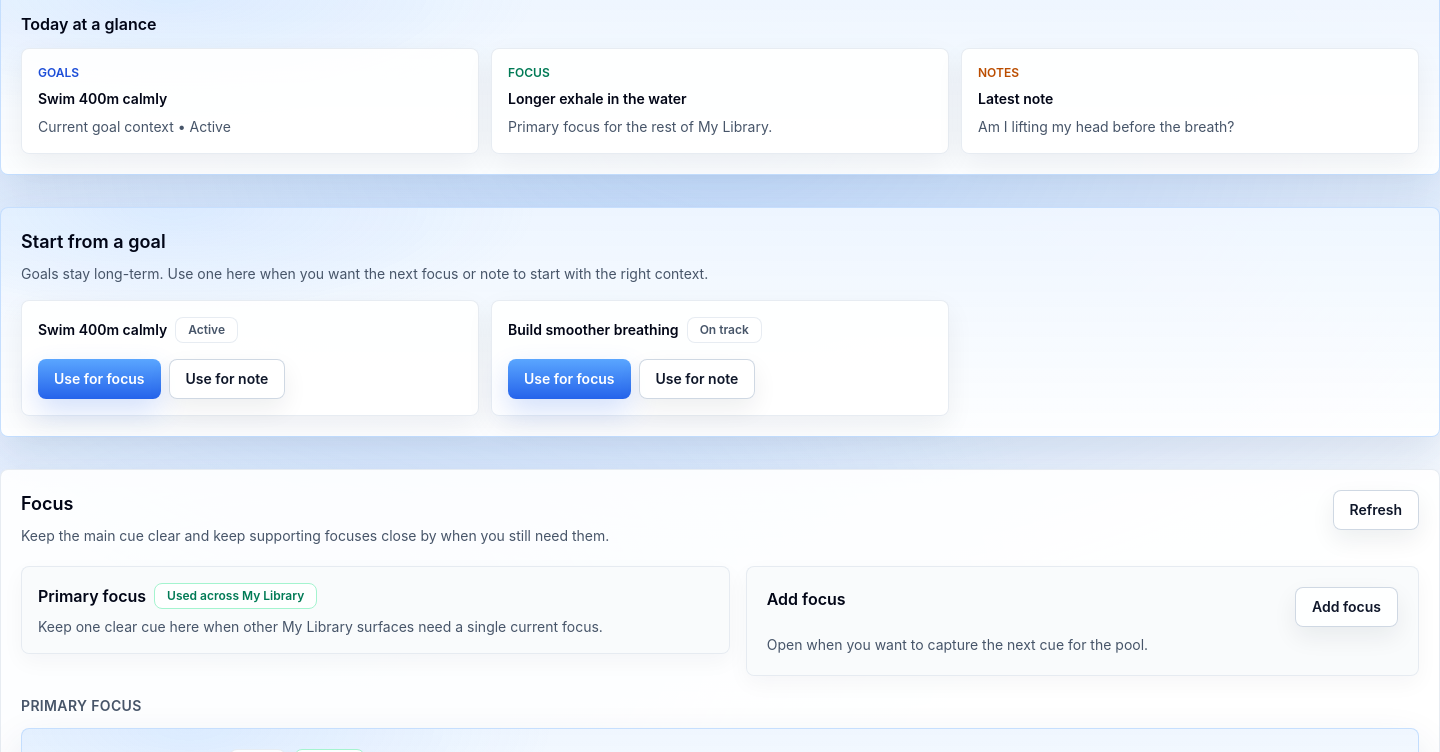
TrainingContextHub › collapses and reopens focus and note drafts without losing text
Click the button with test id "training-focus-form-toggle": x=1346, y=607 x1=1295 y1=587 x2=1398 y2=627
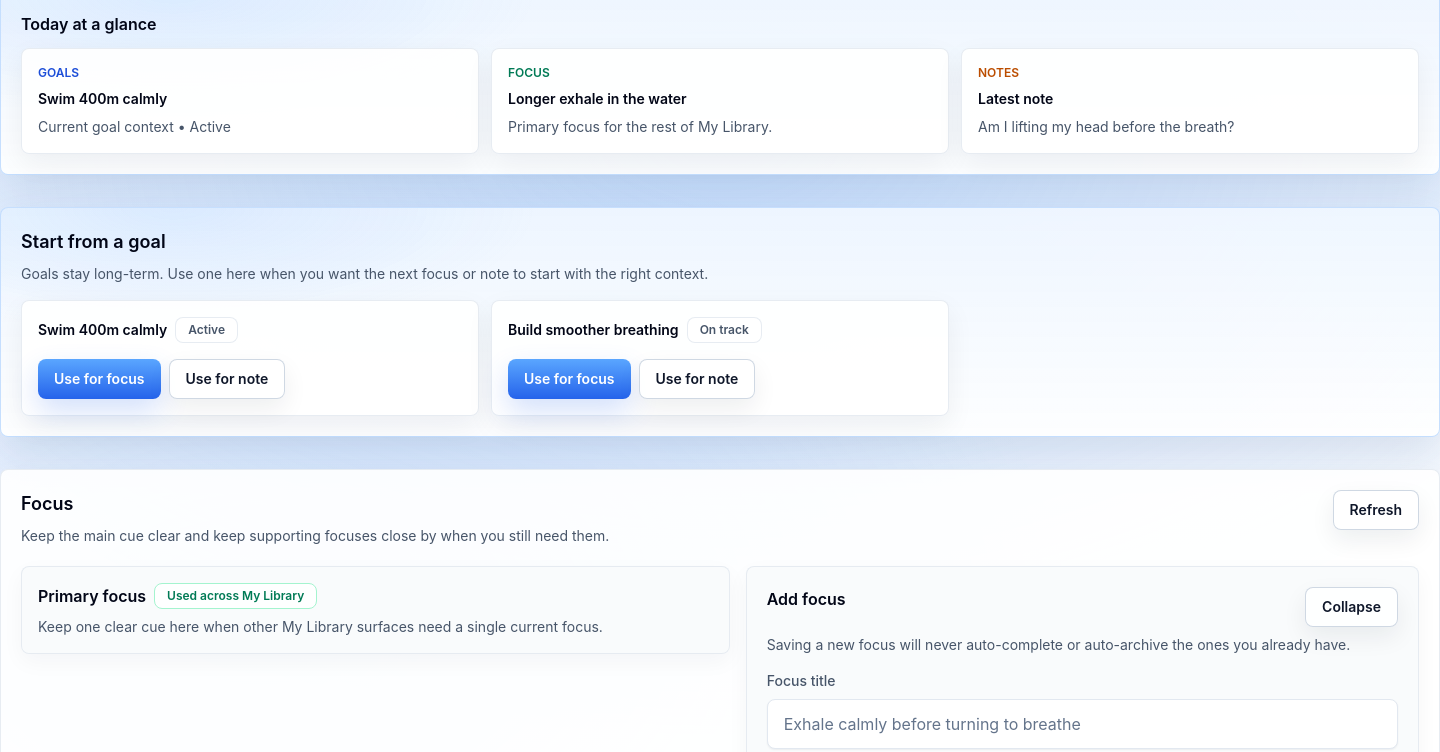
In the field with placeholder "Exhale calmly before turning to breathe": x=1082, y=724 x1=767 y1=699 x2=1398 y2=749, type "Hold the line on every catch"
Click the button with test id "training-focus-form-toggle": x=1352, y=607 x1=1305 y1=587 x2=1398 y2=627
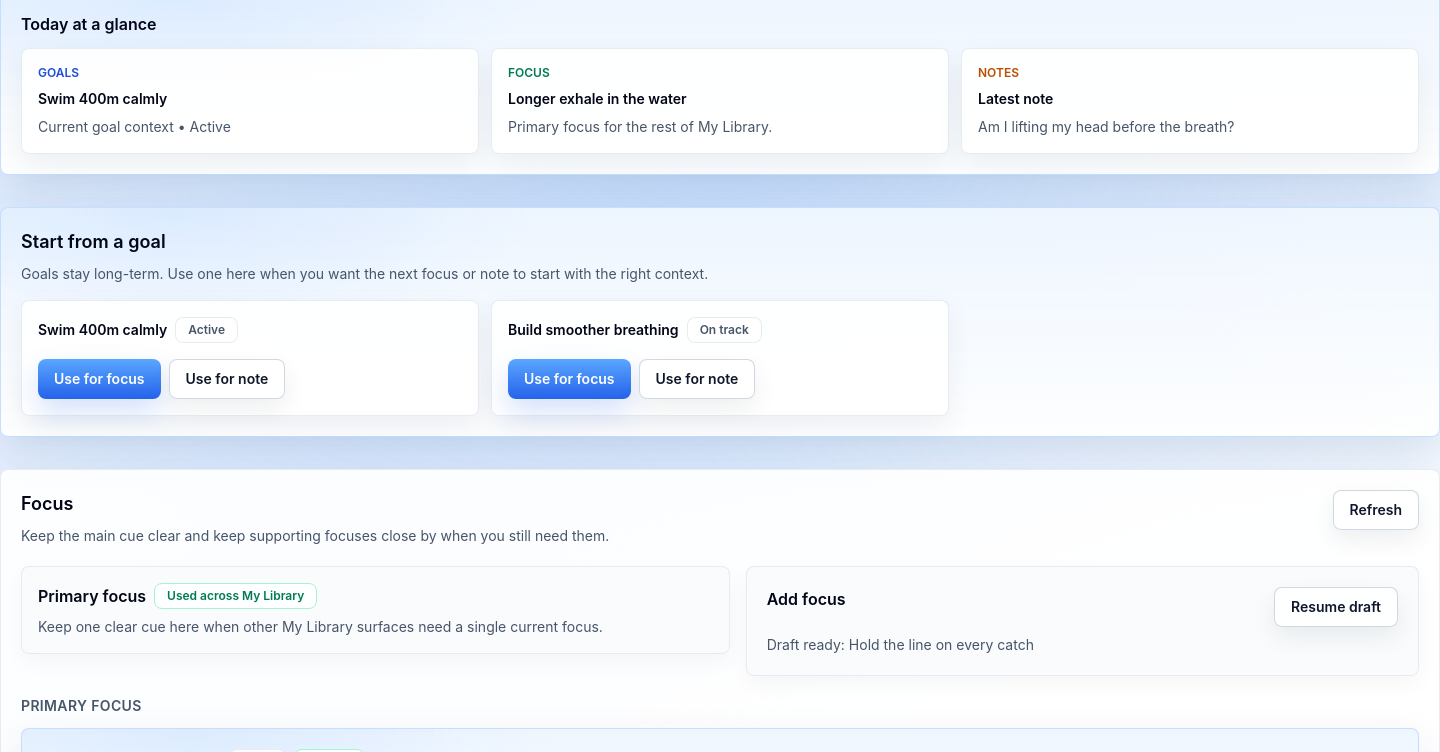
Expected: the text "Draft ready: Hold the line on every catch" is shown, x1=767 y1=636 x2=1034 y2=653
Expected: the button "Resume draft" is shown
Click the button with test id "training-focus-form-toggle": x=1336, y=607 x1=1274 y1=587 x2=1398 y2=627
(page scrolled)
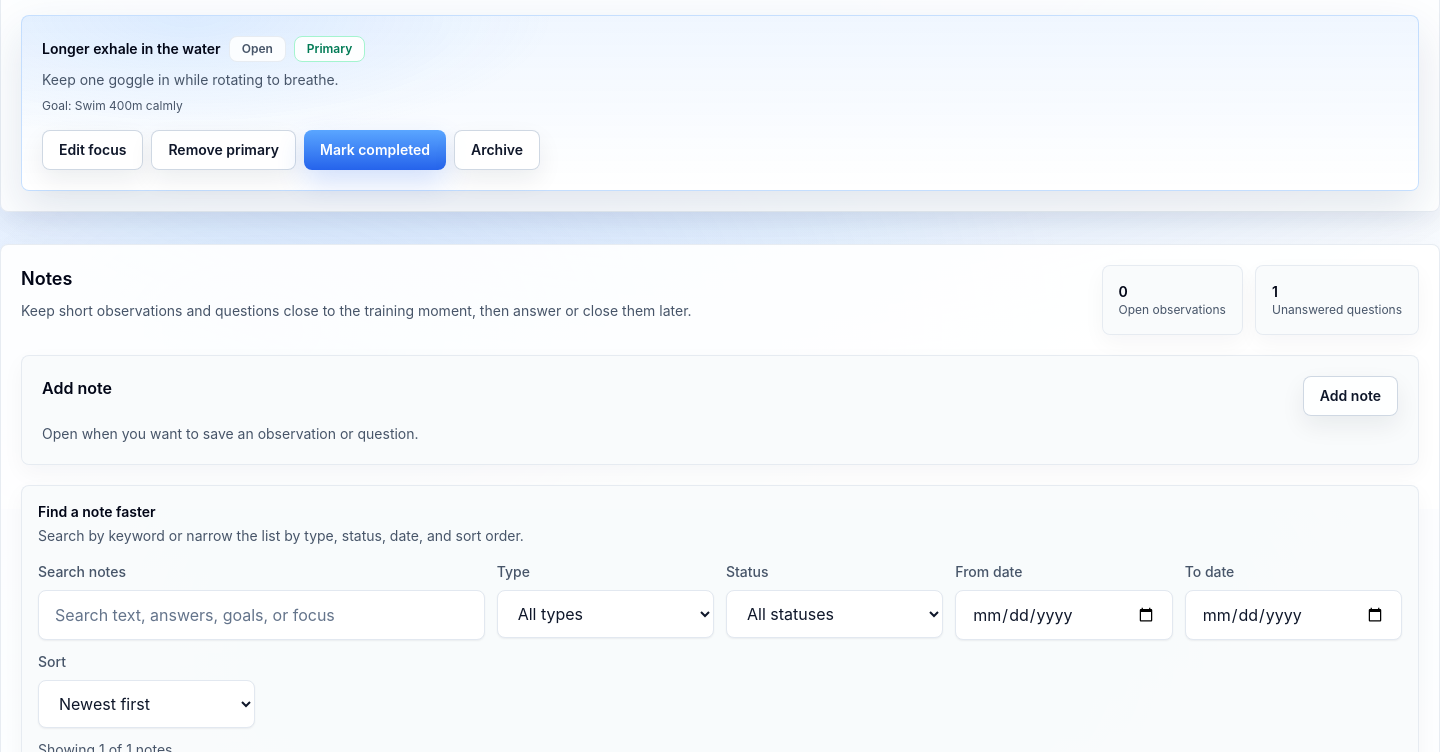
Click the button with test id "training-note-form-toggle": x=1350, y=396 x1=1303 y1=376 x2=1398 y2=416
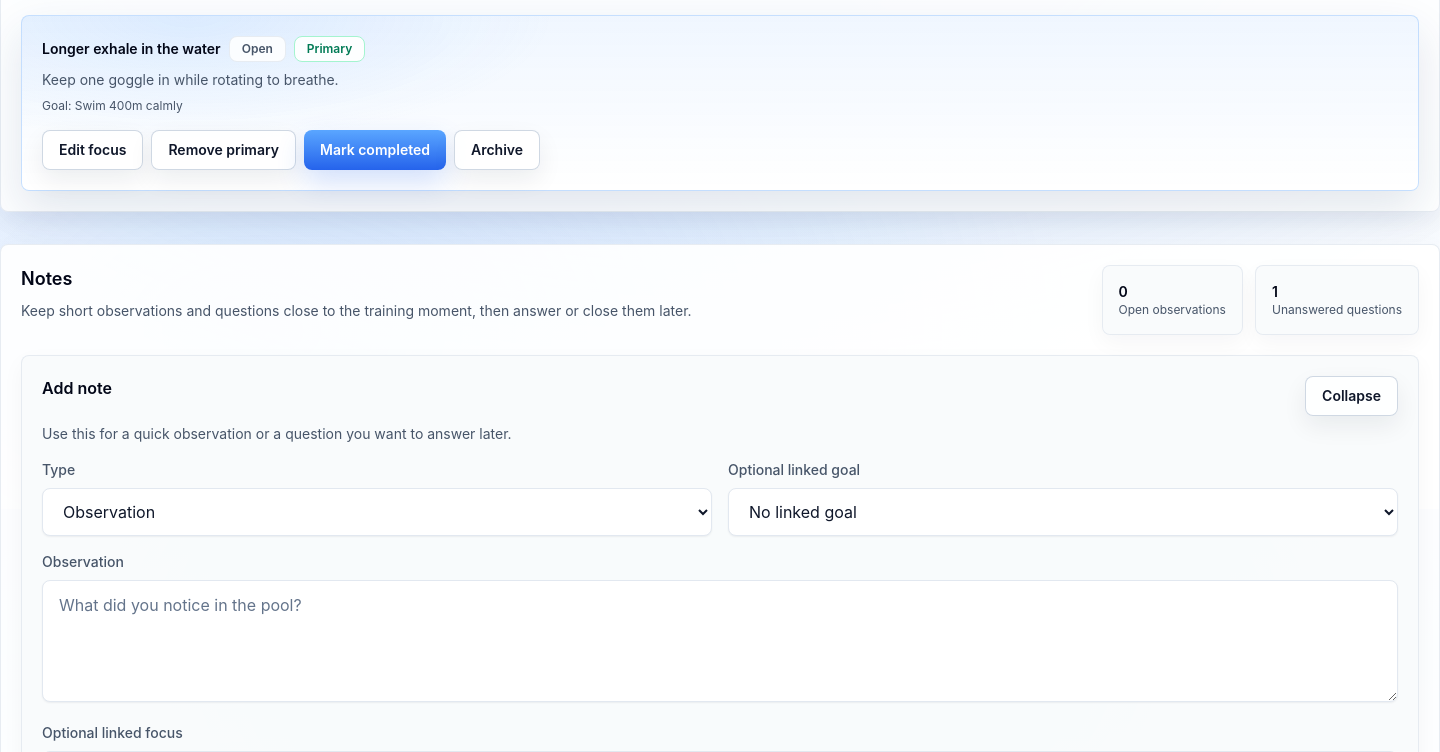
In the text box with placeholder "What did you notice in the pool?": x=720, y=641 x1=42 y1=580 x2=1398 y2=702, type "Breathing felt calmer after the second 100."
Click the button with test id "training-note-form-toggle": x=1352, y=396 x1=1305 y1=376 x2=1398 y2=416
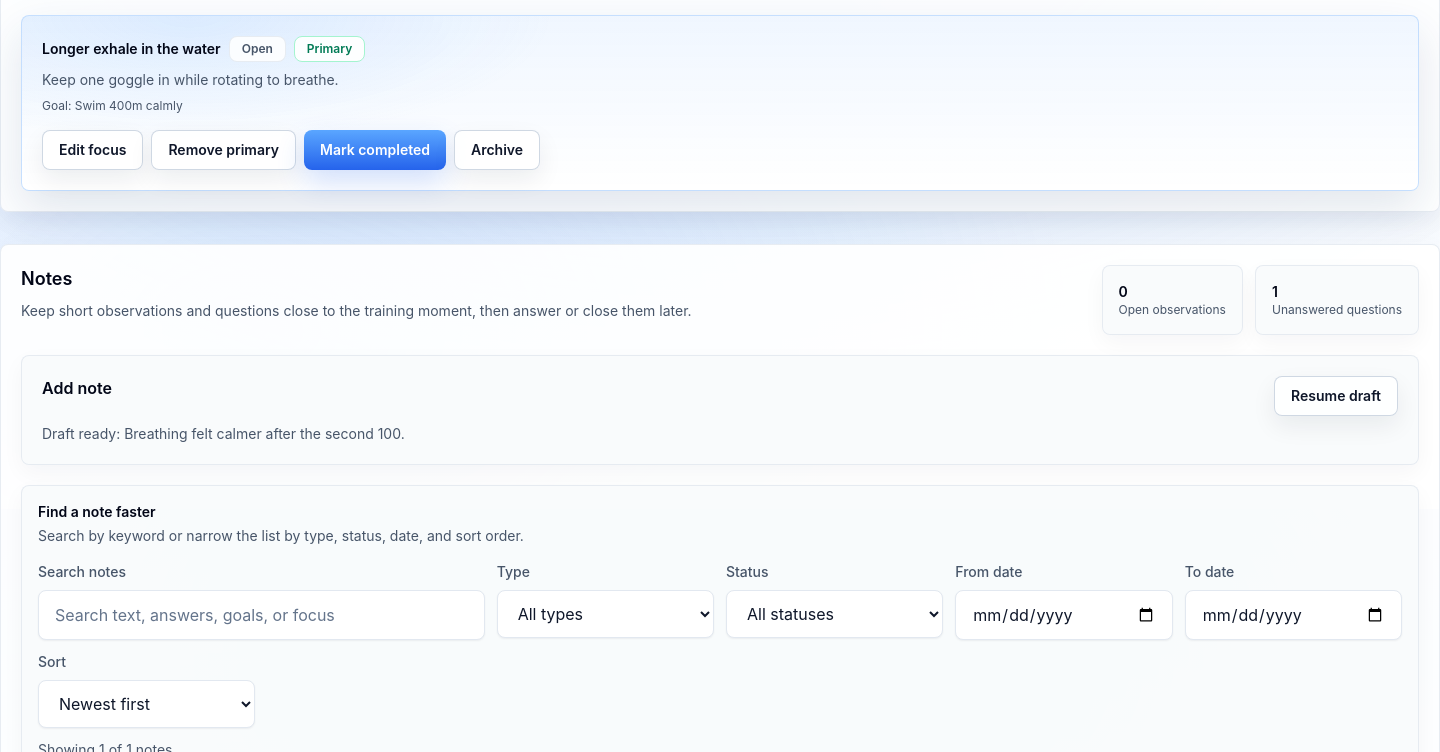
Expected: the text "Draft ready: Breathing felt calmer after the second 100." is shown, x1=42 y1=425 x2=405 y2=442
Click the button with test id "training-note-form-toggle": x=1336, y=396 x1=1274 y1=376 x2=1398 y2=416
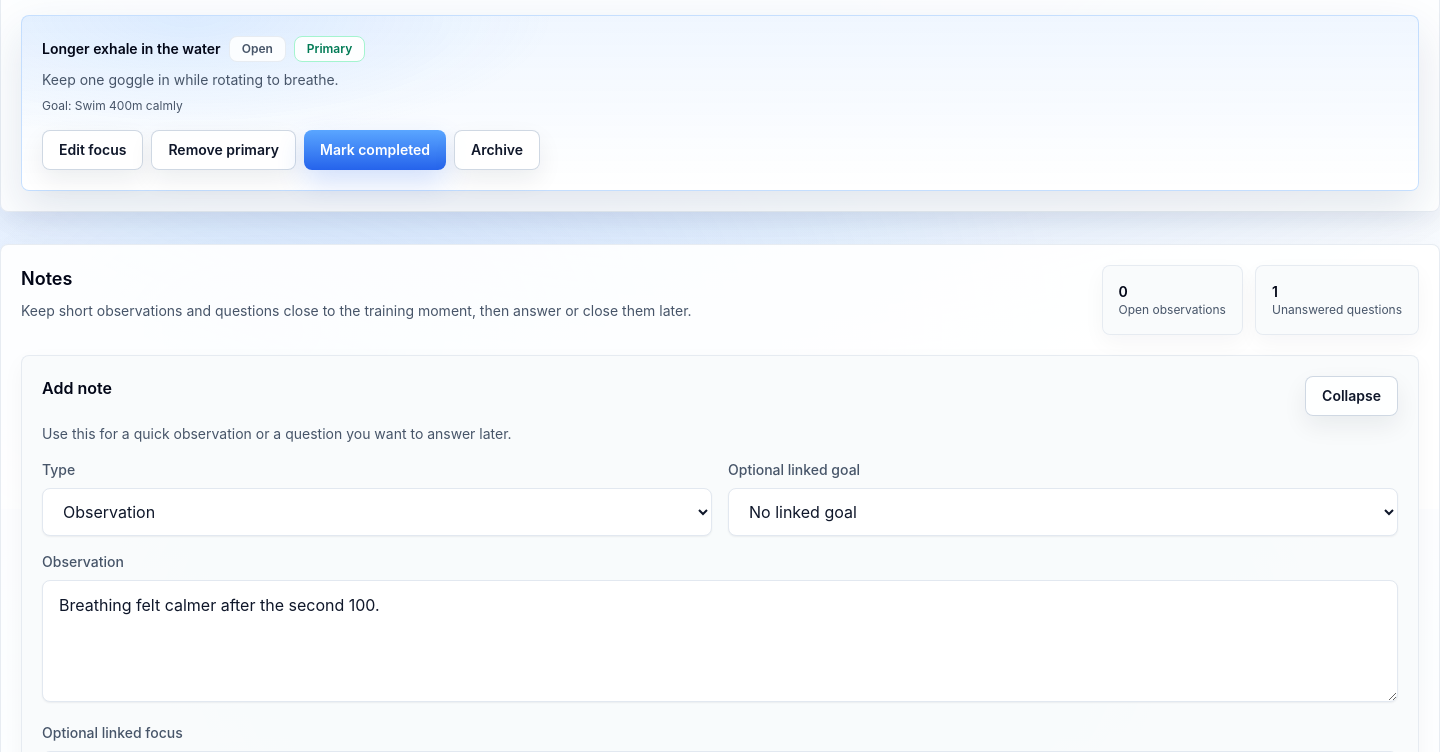
Expected: the text box showing "Breathing felt calmer after the second 100." is shown, x1=42 y1=580 x2=1398 y2=702
